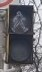walk: (7, 5, 35, 36)
